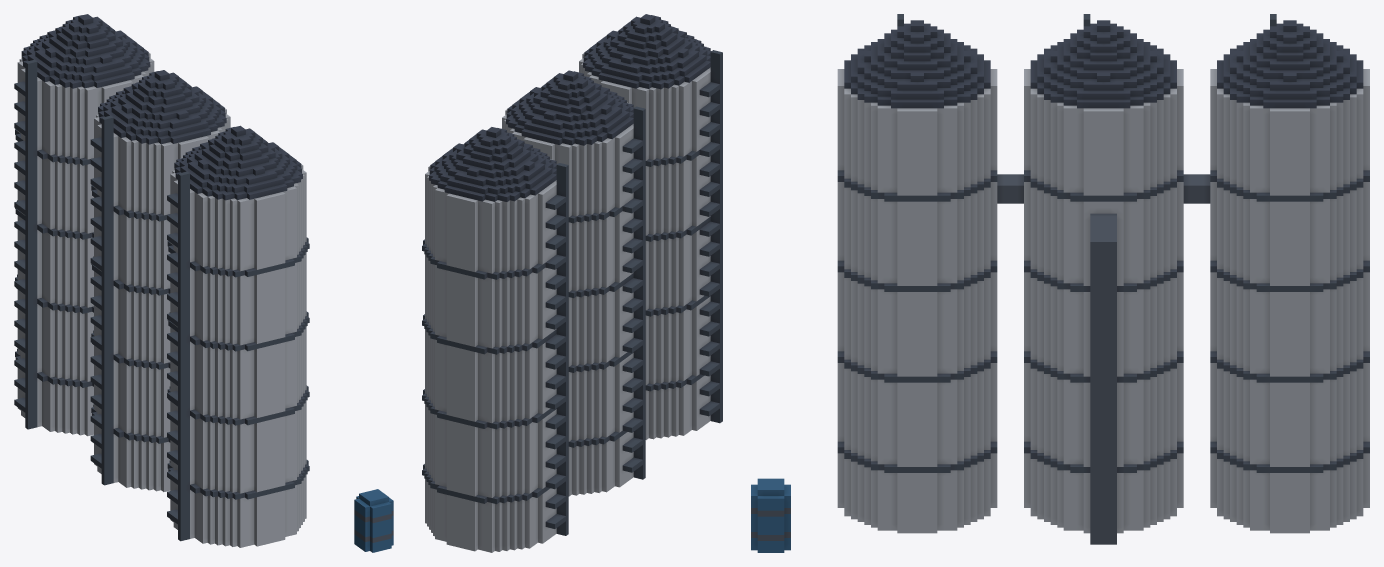
Rendered from factory_e2_l2.glb.
3 renders of one model, left to right at view 1: azimuth 30°, elevation 25°; view 2: azimuth 150°, elevation 25°; view 3: azimuth 270°, elevation 25°, orthographic. The views are drawn at different scales.
Parts seen in each view (by area): view 1: Base; view 2: Base; view 3: Base.
Part boxes in pixels (x1=…): Base: x1=14, y1=14, x2=393, y2=552; Base: x1=422, y1=14, x2=722, y2=552; Base: x1=751, y1=14, x2=1369, y2=552.
Size of the model in its own units: 3.6 by 7.9 by 9.3.
